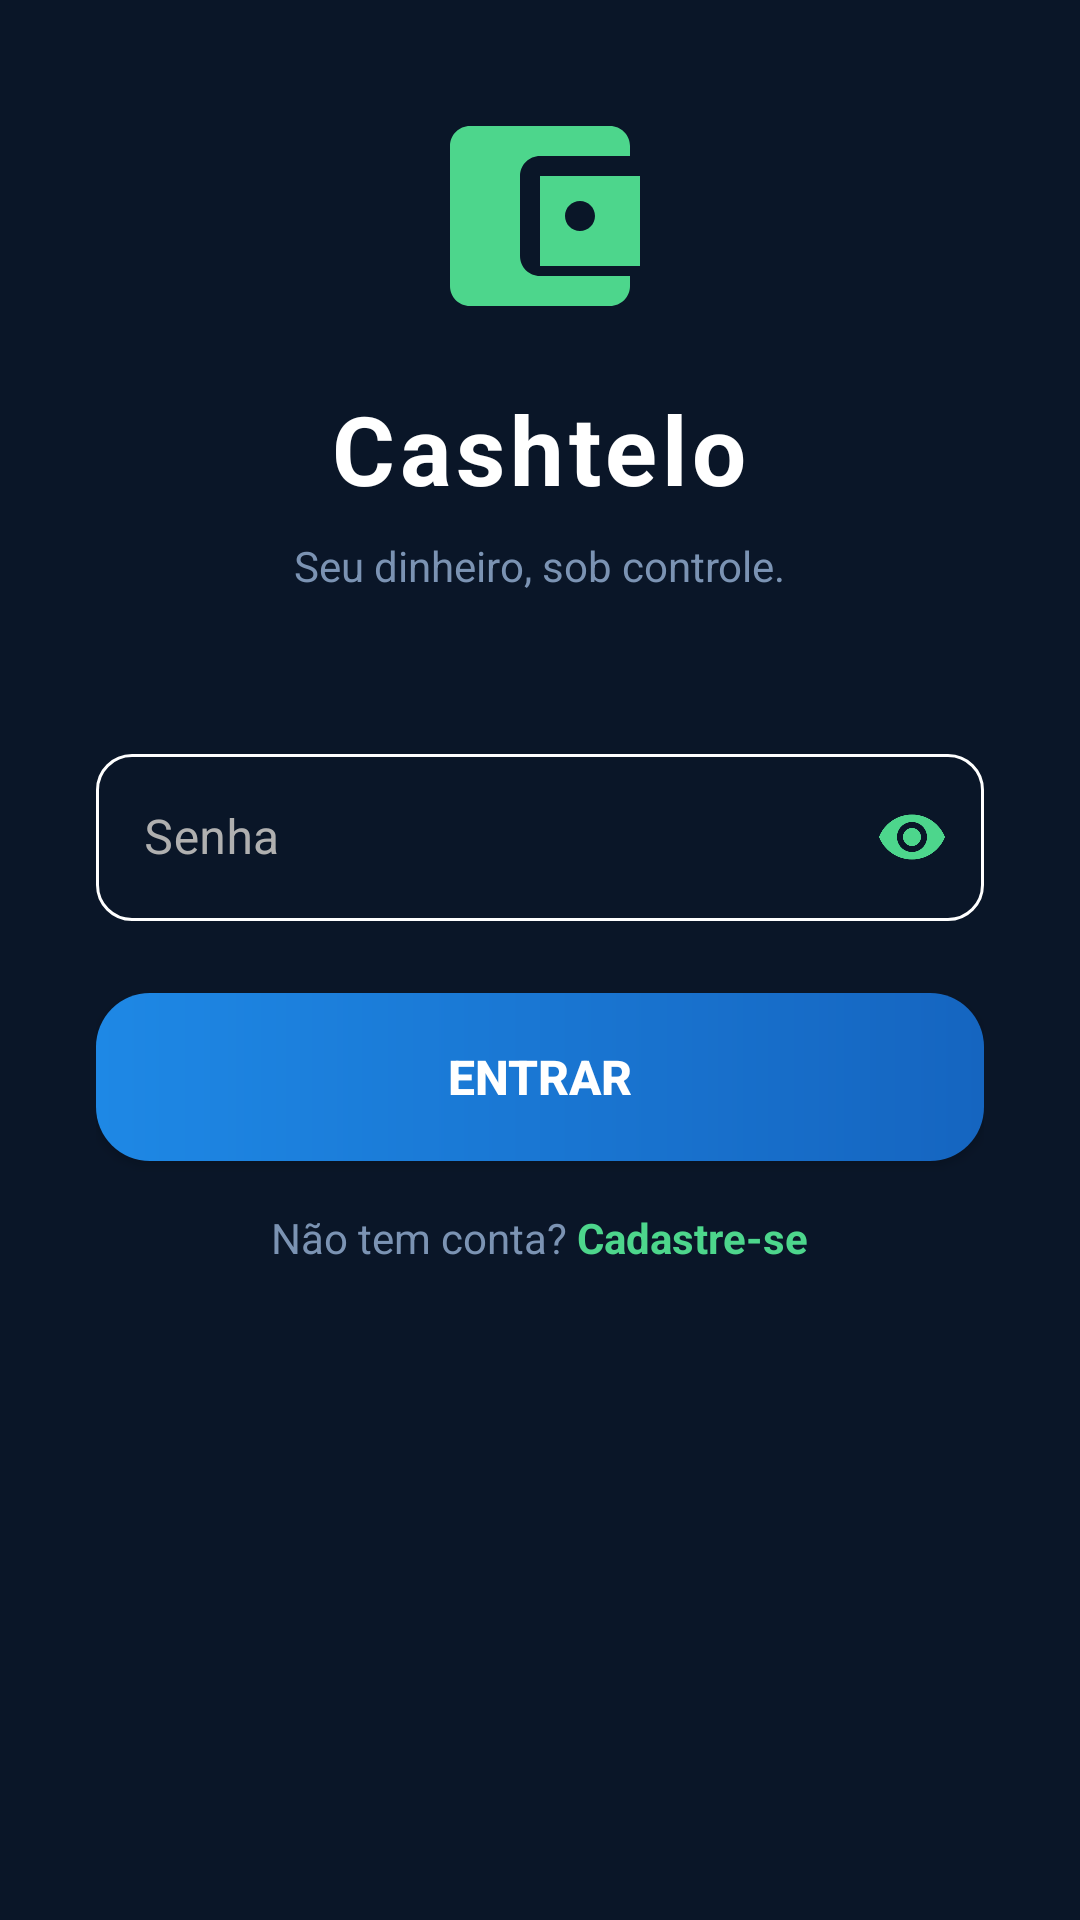

Icon bounding boxes for this 1080px x 1920px phone screenshot, format Rect(x1, y1, x2, y2):
wallet: Rect(450, 126, 640, 306)
